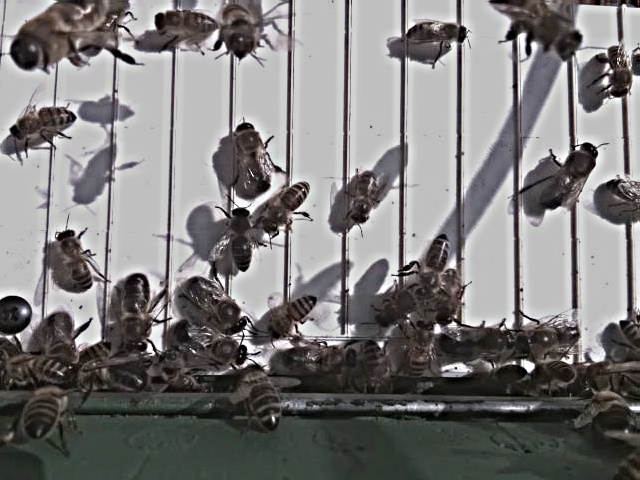Drone: (539, 136, 604, 214), (184, 272, 251, 336), (437, 319, 522, 361), (232, 118, 277, 194), (119, 267, 156, 358)
Worker: (9, 99, 78, 145), (262, 176, 312, 239), (52, 226, 99, 292), (267, 288, 323, 340), (224, 200, 260, 275), (151, 5, 225, 39), (346, 164, 384, 227), (402, 16, 471, 50), (417, 228, 452, 293), (406, 312, 436, 387), (600, 42, 635, 99)
